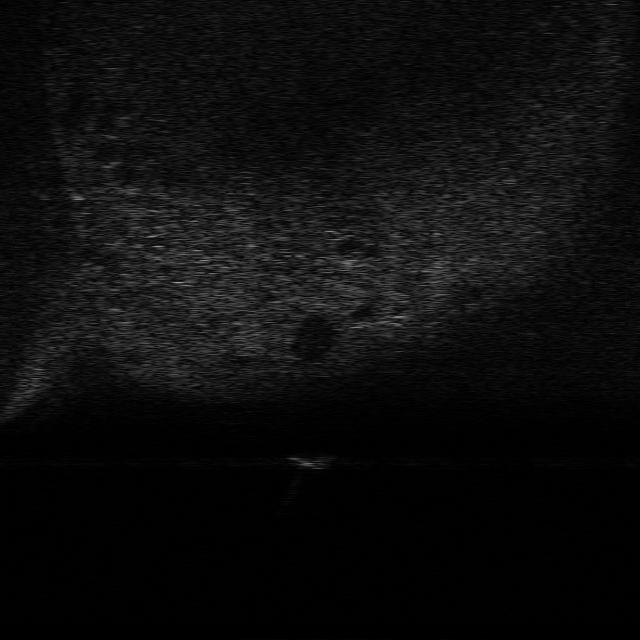cube: (288, 450, 334, 470)
